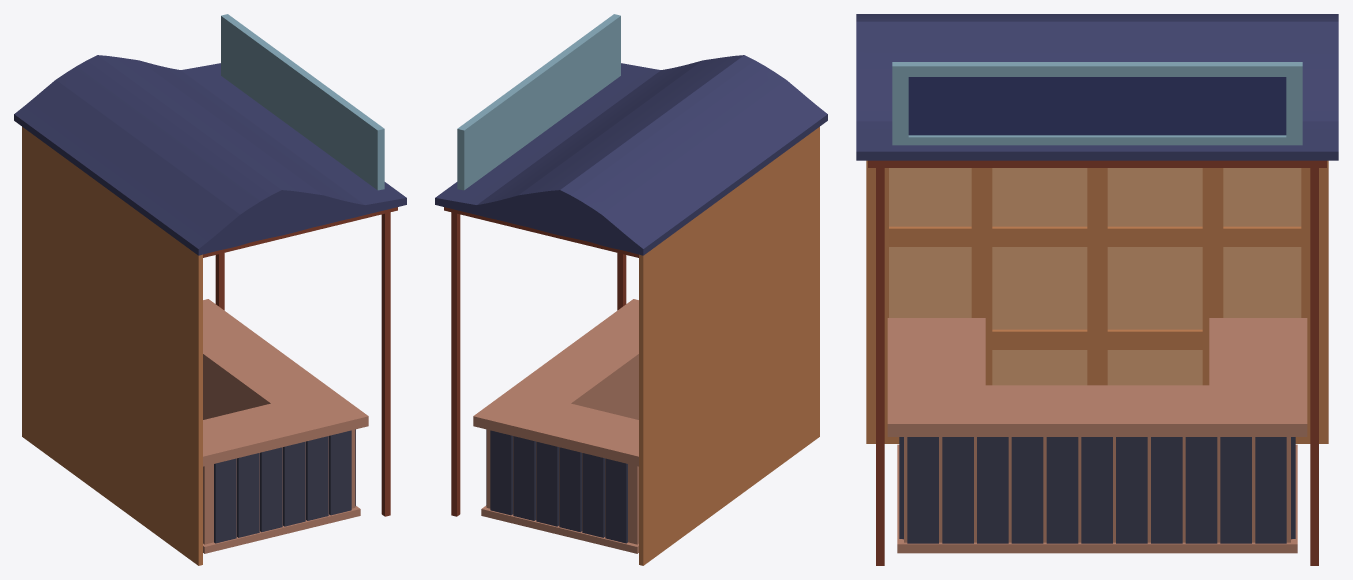
The model's file is booth1.1.fbx.
3 views of the same model, side by side, from view 1: azimuth 30°, elevation 25°; view 2: azimuth 150°, elevation 25°; view 3: azimuth 270°, elevation 25° (orthographic). The views are drawn at different scales.
Visible parts, largest first — view 1: Cube, Cube.005, mainstore, Cube.003, Cube.006, Cube.002, Cube.001; view 2: Cube, Cube.005, mainstore, Cube.003, Cube.006, Cube.002, Cube.001; view 3: Cube, mainstore, Cube.004, Cube.005, Cube.006, Cube.002, Cube.001, Cube.003.
Part boxes in pixels (x1,y1,x2,y2): Cube: (22,127,202,565); Cube.005: (14,55,406,255); mainstore: (203,299,368,553); Cube.003: (214,430,351,543); Cube.006: (221,14,384,190); Cube.002: (215,212,390,516); Cube.001: (203,207,397,257); Cube: (639,127,819,565); Cube.005: (435,55,827,255); mainstore: (473,299,638,553); Cube.003: (490,430,627,543); Cube.006: (457,14,620,190); Cube.002: (451,212,626,516); Cube.001: (444,207,638,257); Cube: (866,160,1328,443); mainstore: (887,318,1307,553); Cube.004: (907,437,1286,543); Cube.005: (856,14,1338,160); Cube.006: (892,62,1302,145); Cube.002: (876,168,1318,565); Cube.001: (868,160,1326,167); Cube.003: (899,437,1295,539).
Size of the model in its own units: 852 by 1496 by 1306.
